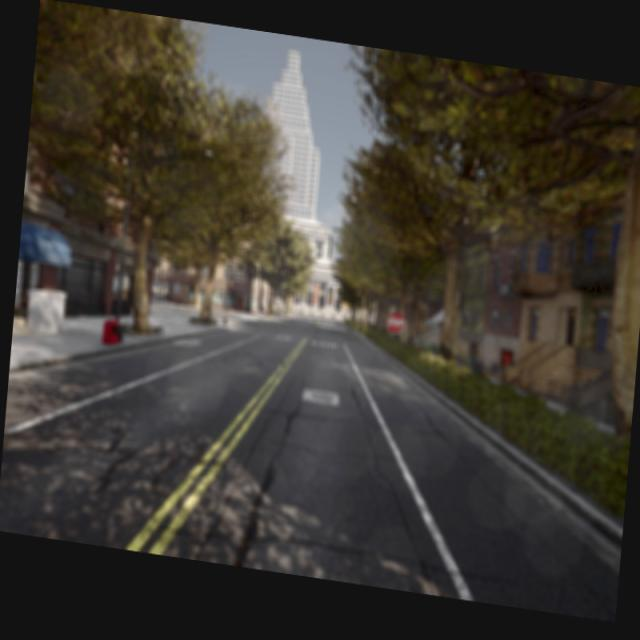stop sign: (384, 307, 406, 335)
